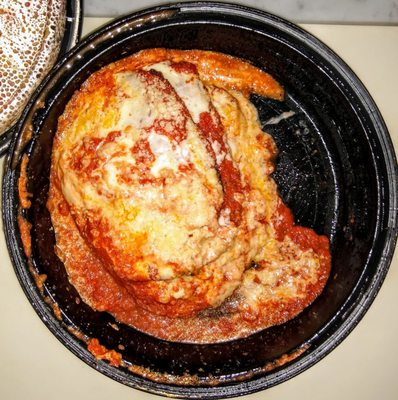curry: (2, 3, 396, 399)
sushi: (20, 8, 333, 358)
